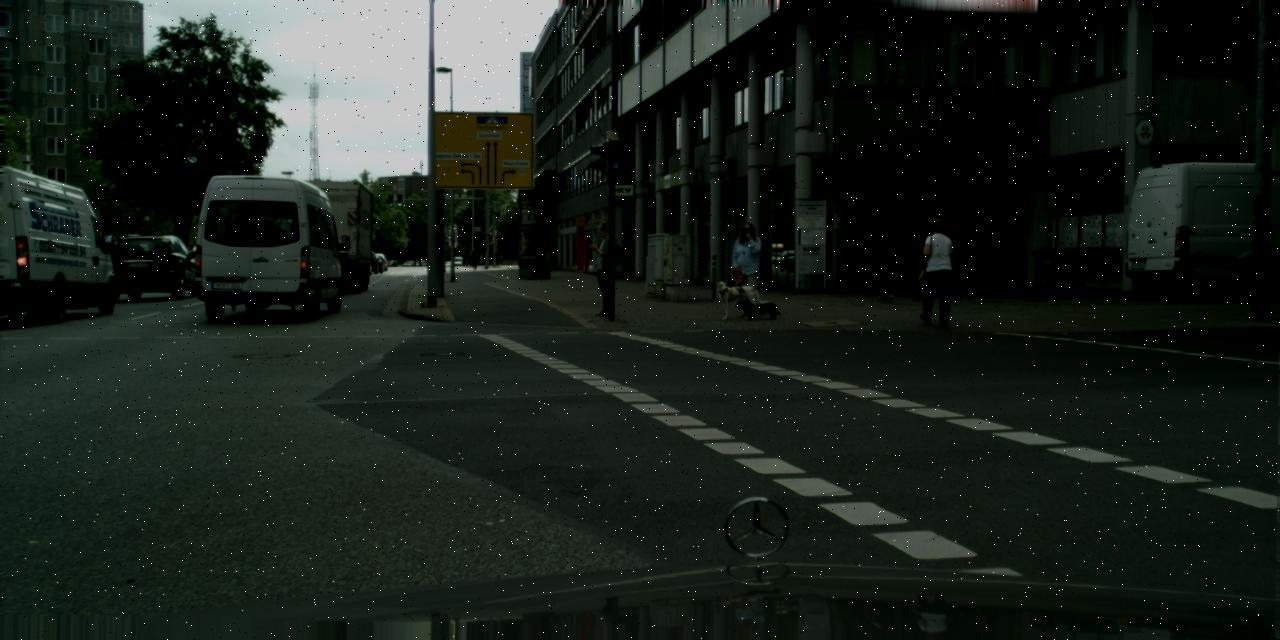ped: (915, 218, 959, 324), (586, 221, 624, 316), (730, 221, 766, 309), (470, 249, 478, 268), (498, 250, 503, 266), (464, 256, 468, 265)
